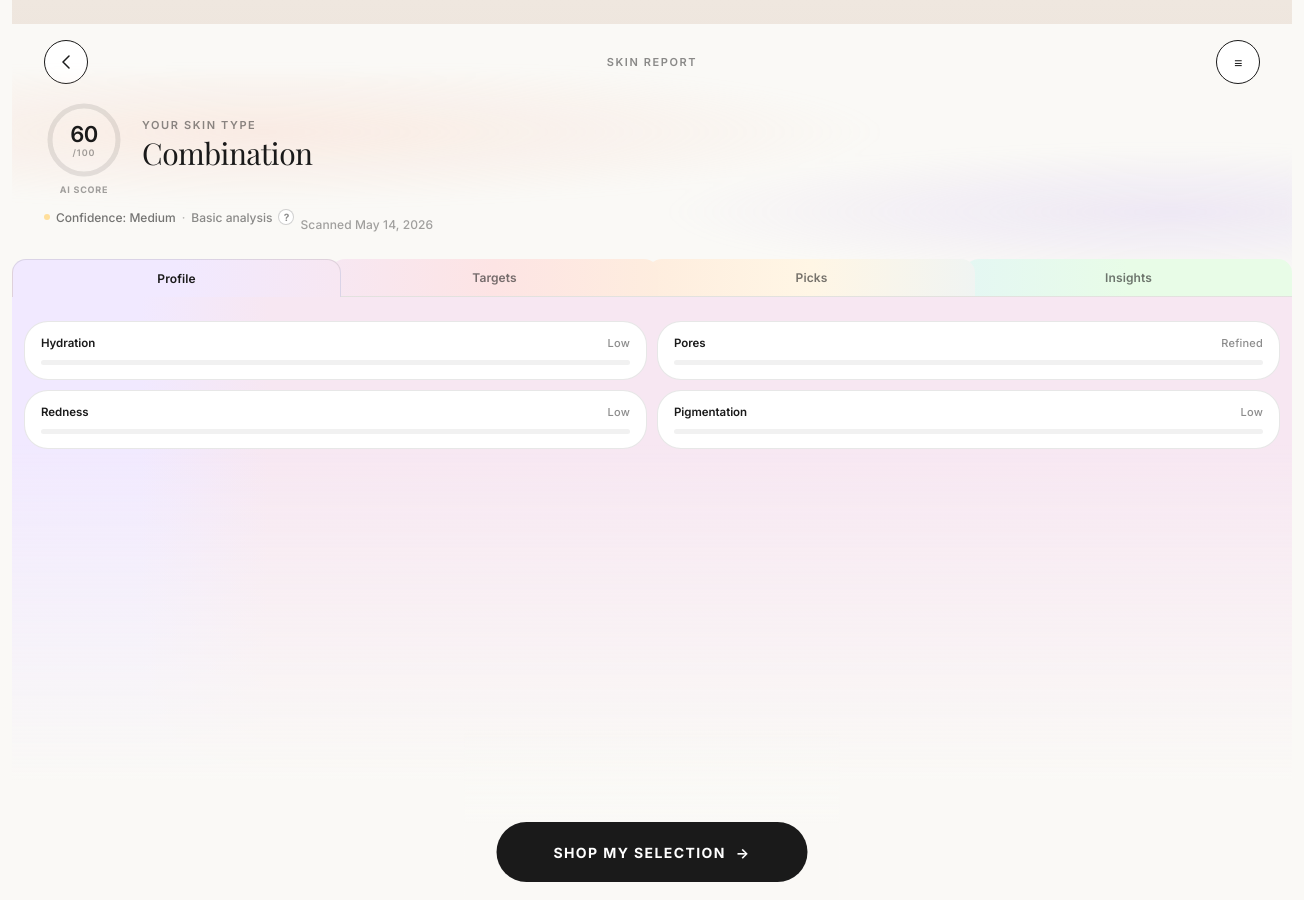
<ResultsPage /> › renders cleanly when ai_metrics is omitted (old scan)
Expected: the text "Basic analysis" is shown, [191,210,272,224]
Expected: the text "Hydration" is shown, [41,336,95,350]
Click the tab "Picks" at {"x": 812, "y": 278}, box [648,259,975,296]
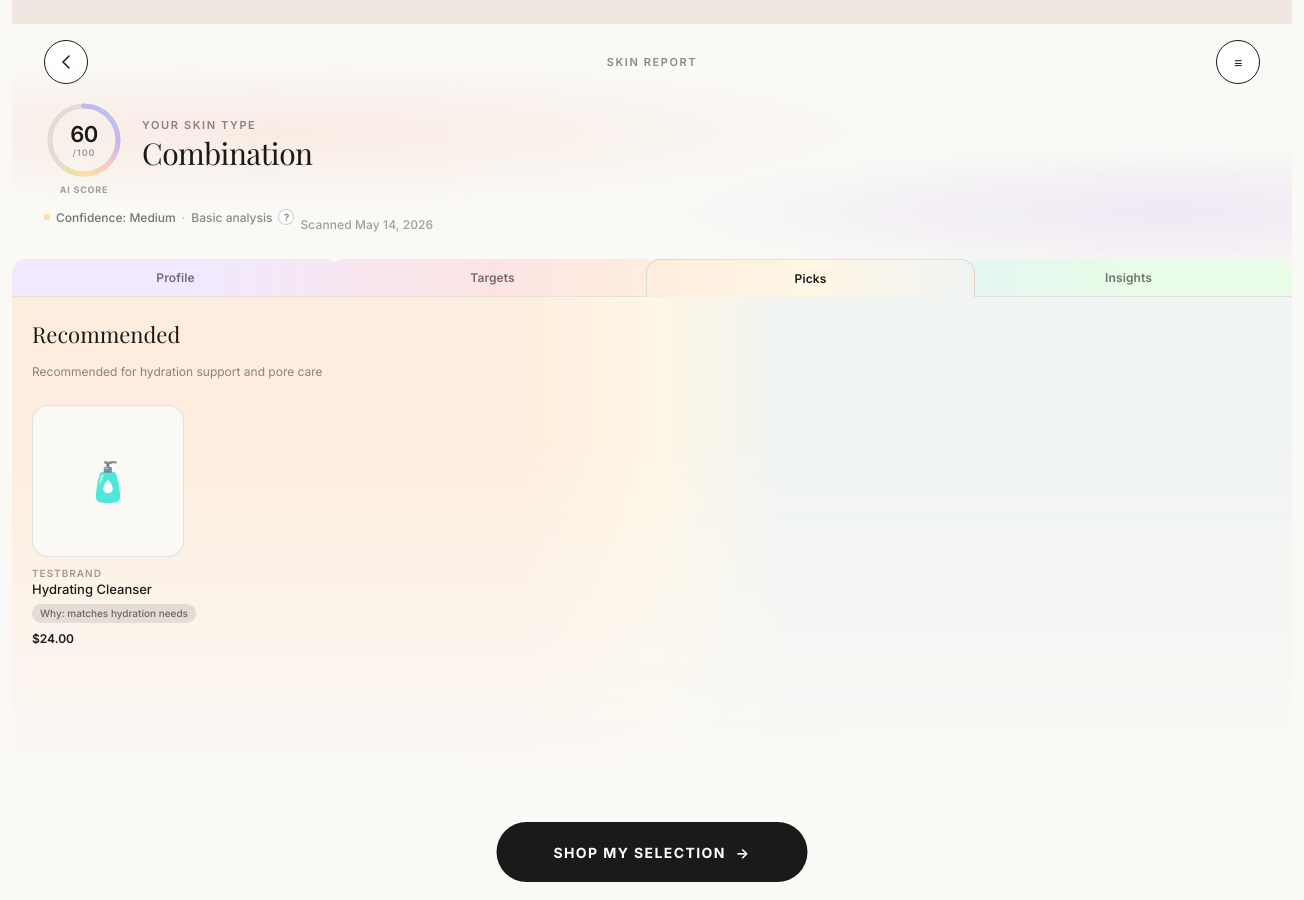
Expected: the heading "Recommended" is shown, [32,321,180,347]
